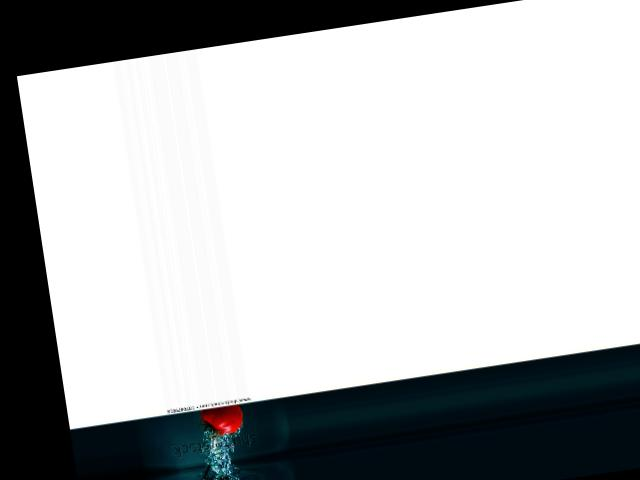tomato: (198, 403, 244, 437)
